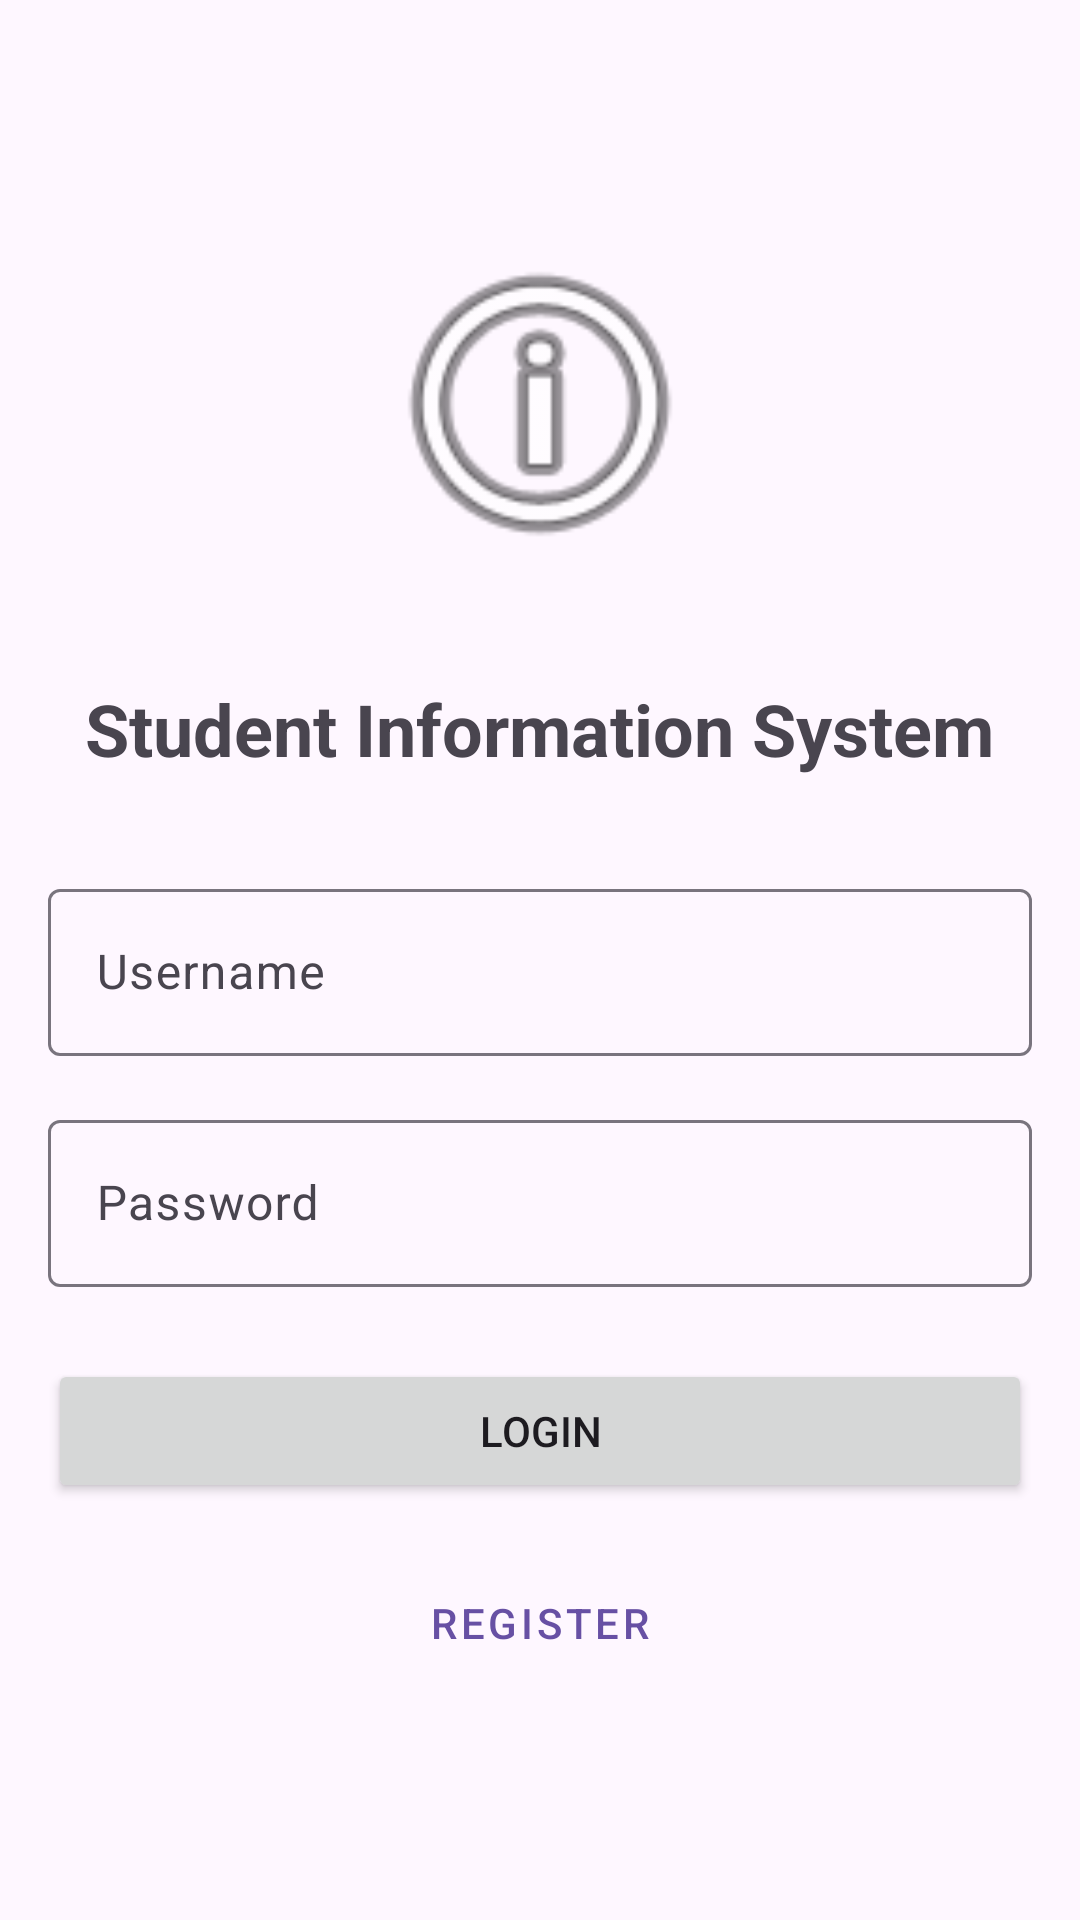

Where icons sit on this 1080px x 1920px app screen, as (x1, y1, x2, y2):
info details: (410, 274, 670, 534)
